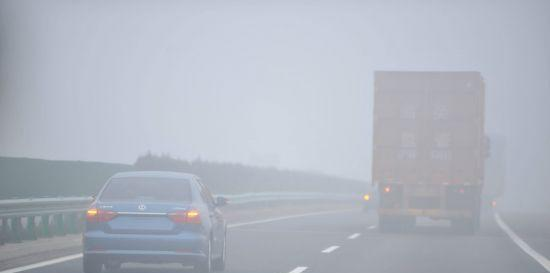bus: (368, 66, 494, 241), (439, 129, 507, 217)
car: (77, 167, 229, 272)
